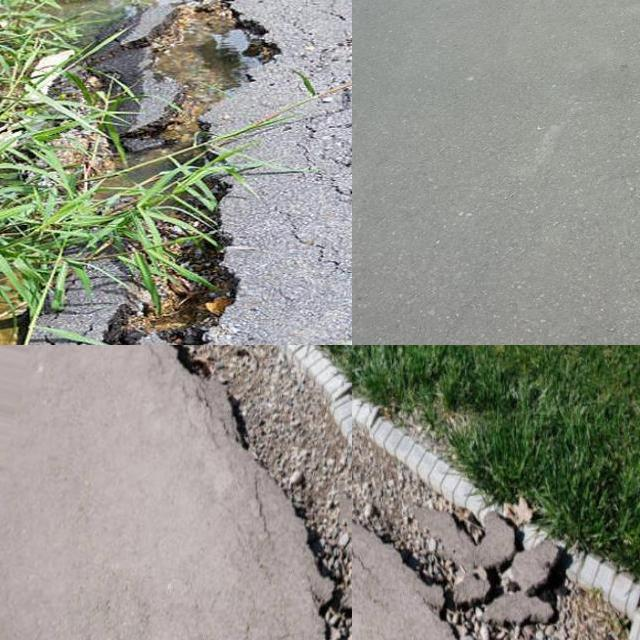Pinggir: (3, 0, 300, 345), (352, 345, 640, 640), (160, 345, 352, 640)
